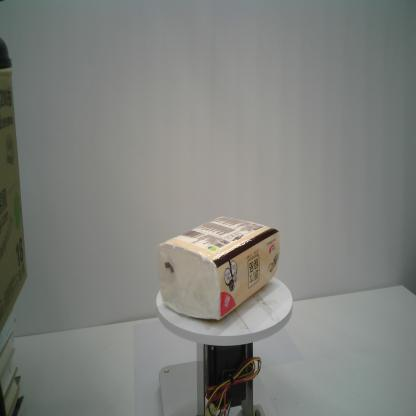Tissue: (156, 212, 281, 324)
